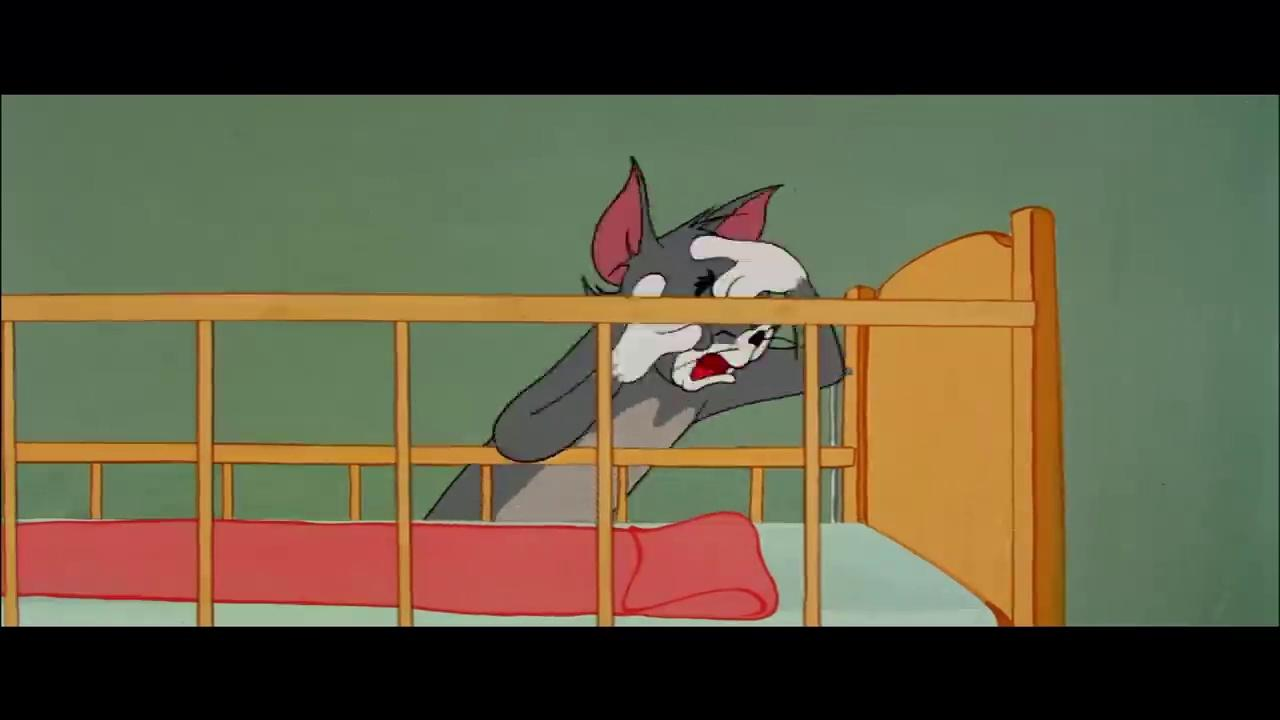Tom: (424, 153, 847, 523)
